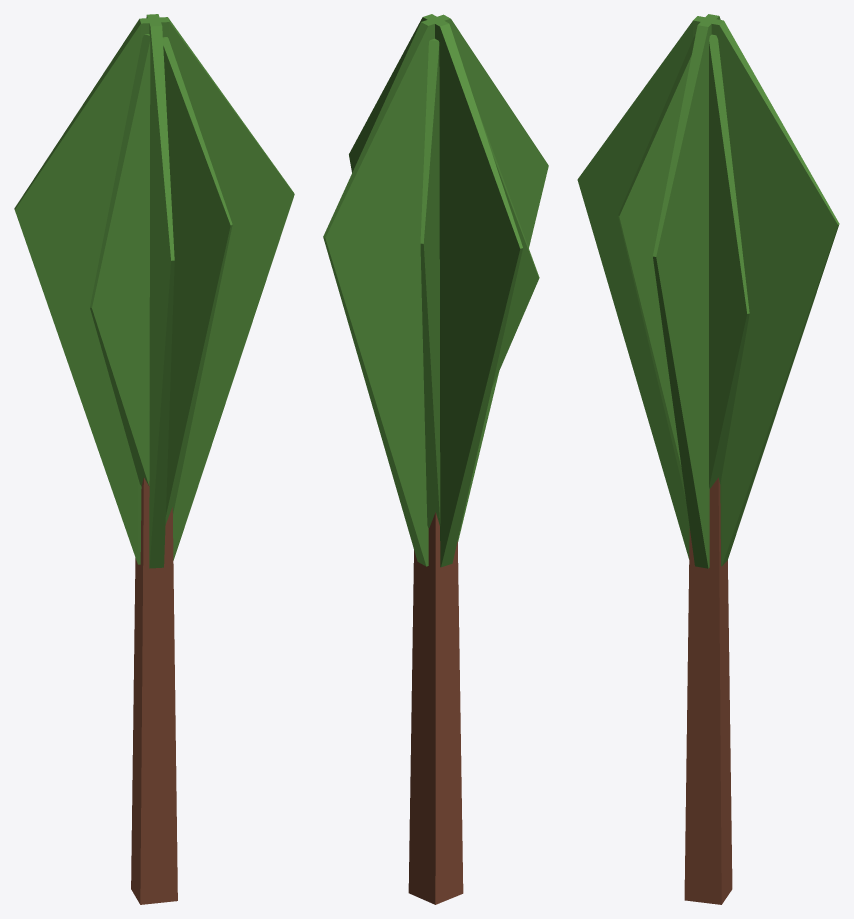
File: Tree_33_summer_mat.fbx
3 views of the same model, side by side, from view 1: azimuth 30°, elevation 25°; view 2: azimuth 150°, elevation 25°; view 3: azimuth 270°, elevation 25° (orthographic).
Parts seen in each view (by area): view 1: Tree_33_summer_mat; view 2: Tree_33_summer_mat; view 3: Tree_33_summer_mat.
Boxes of the visible parts, x1,y1,x2,y2 form: Tree_33_summer_mat: (14, 14, 294, 904); Tree_33_summer_mat: (323, 14, 548, 904); Tree_33_summer_mat: (577, 14, 839, 904).
Size of the model in its own units: 3.38 by 12.46 by 3.38.
